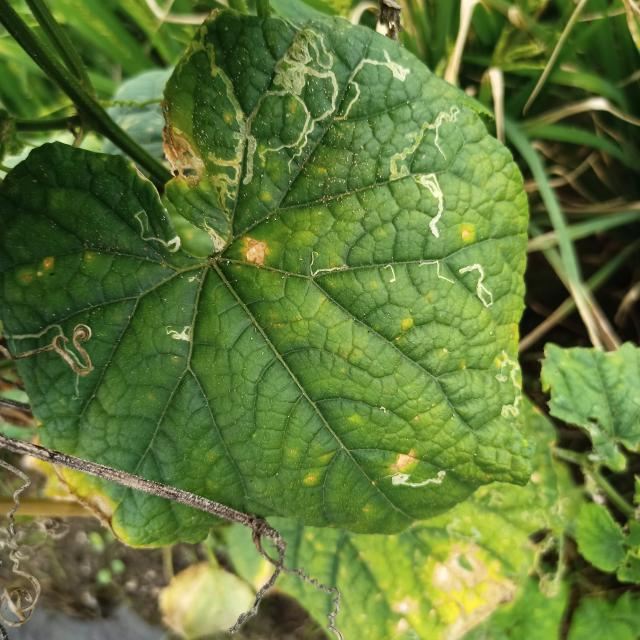disease_cucumber: (242, 234, 269, 268), (22, 258, 55, 282), (392, 449, 419, 474), (460, 227, 473, 244)
